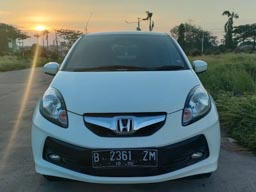plat: (89, 148, 159, 163)
